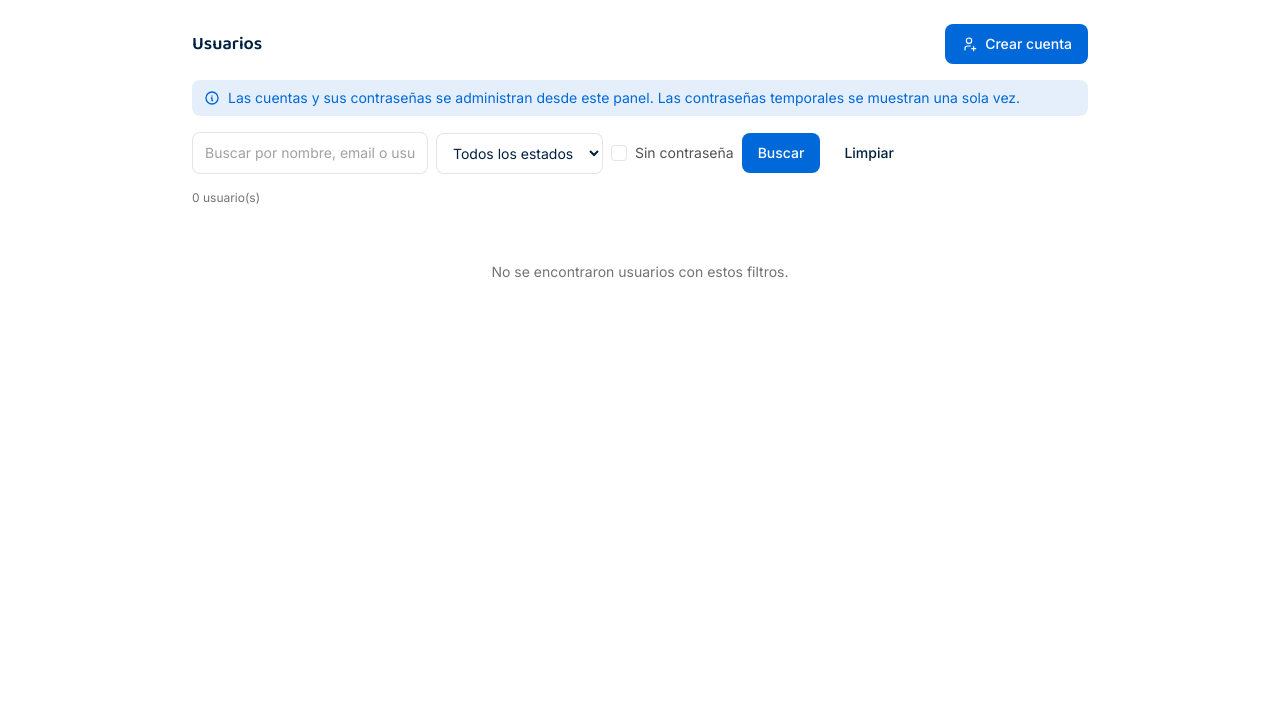
Test: AdminUsersPanel › con cuentas locales › creates an account and shows the temporary password once
The width and height of the screenshot is (1280, 720).
Click the button "Crear cuenta" at (1017, 44), box [945, 24, 1088, 64]
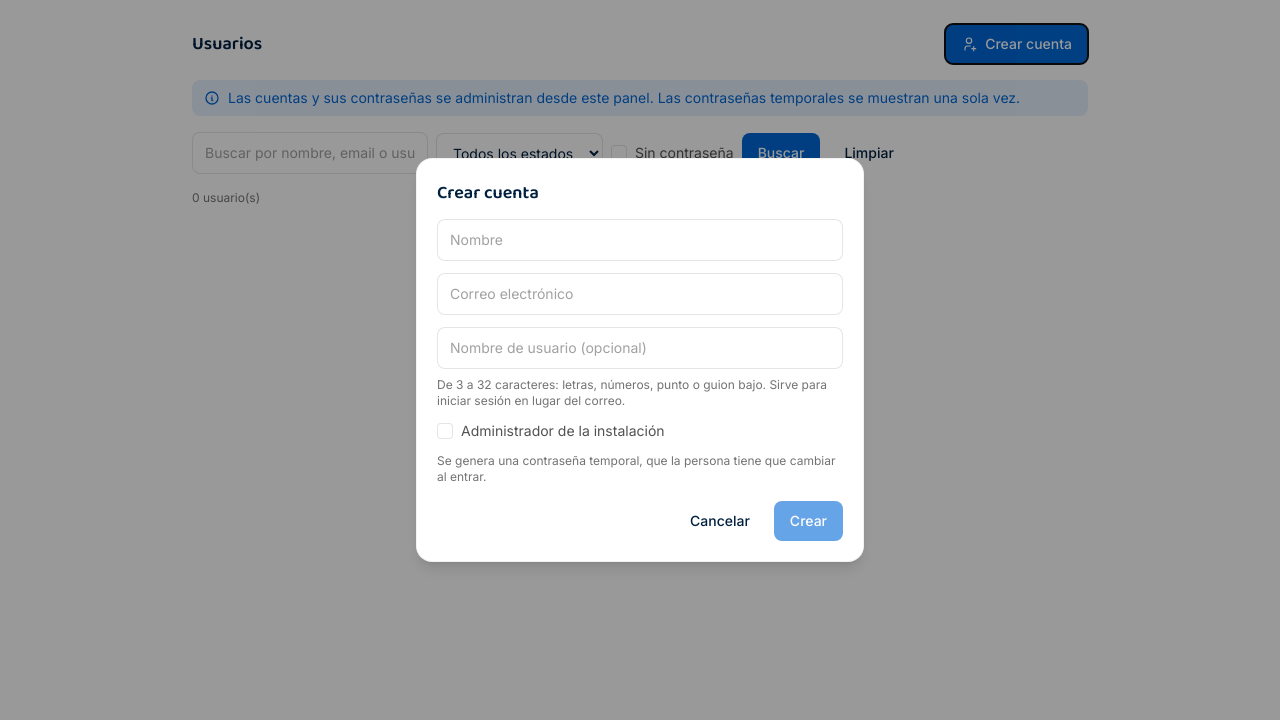
Type "Nueva Persona" into the field labelled "Nombre" at (640, 240), box [437, 219, 843, 261]
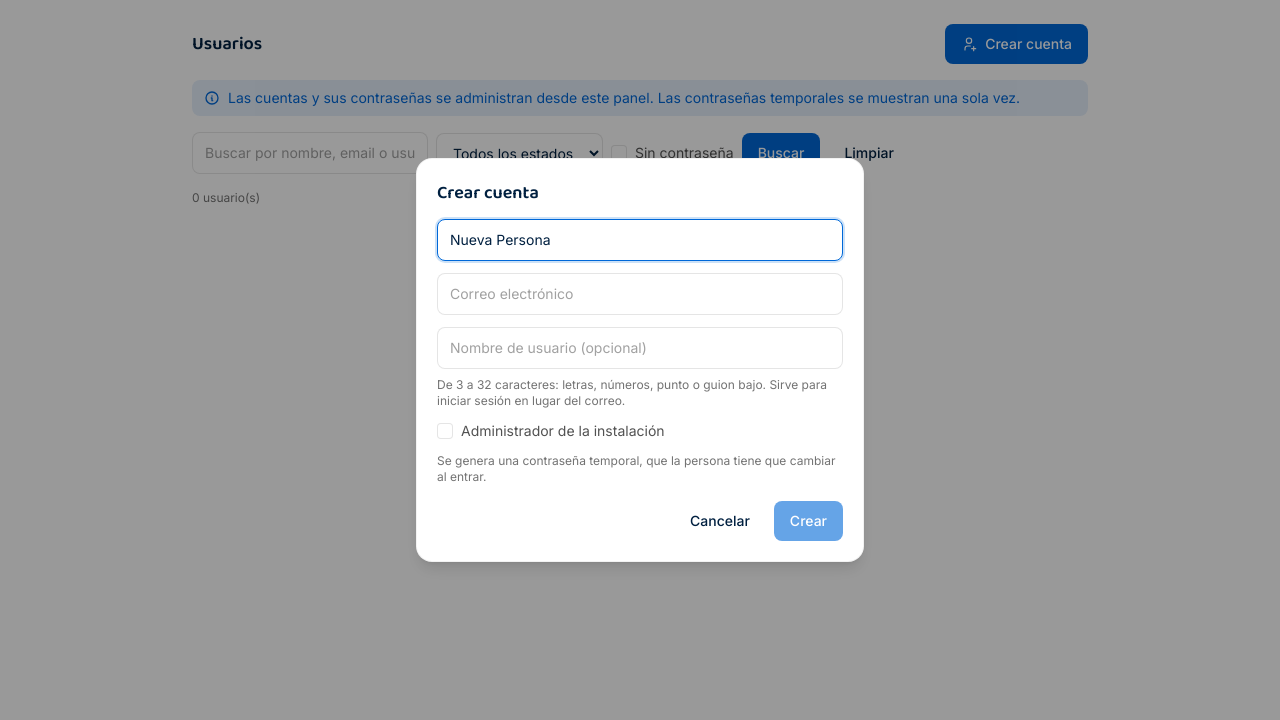
Type "Nueva@Example.com" into the field labelled "Correo electrónico" at (640, 294), box [437, 273, 843, 315]
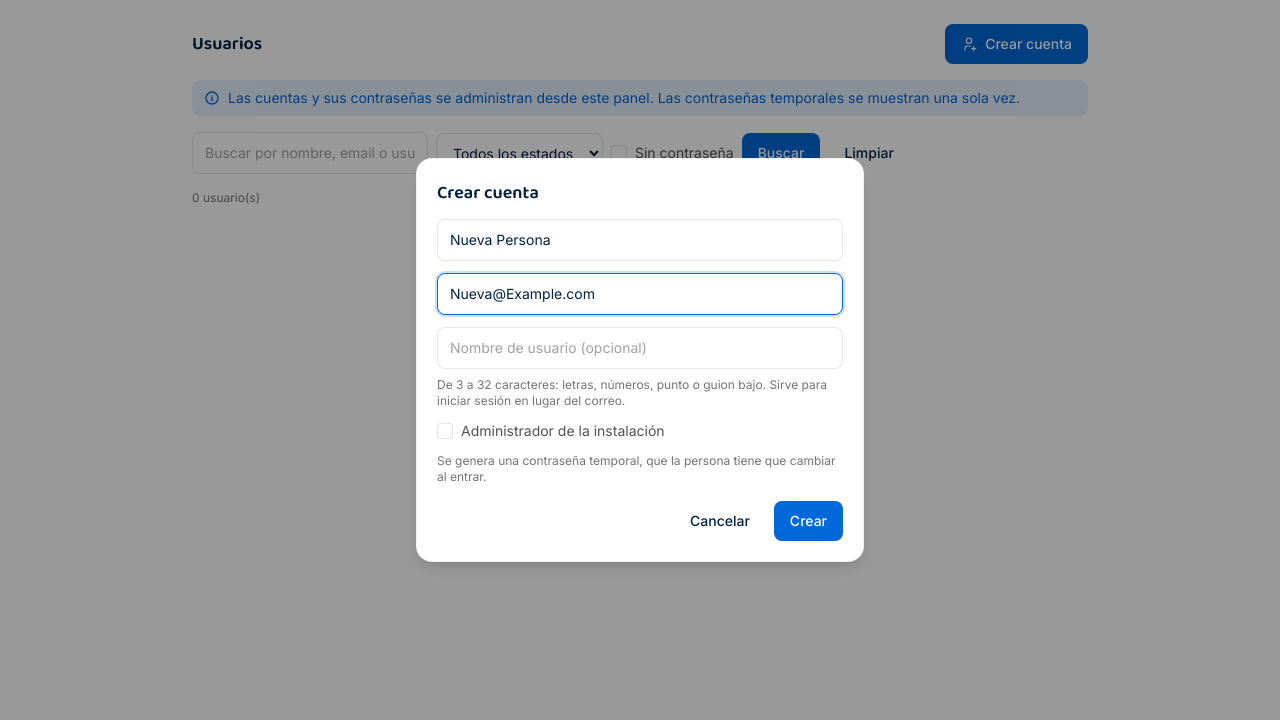
Click the button "Crear" at (808, 521), box [774, 501, 843, 541]
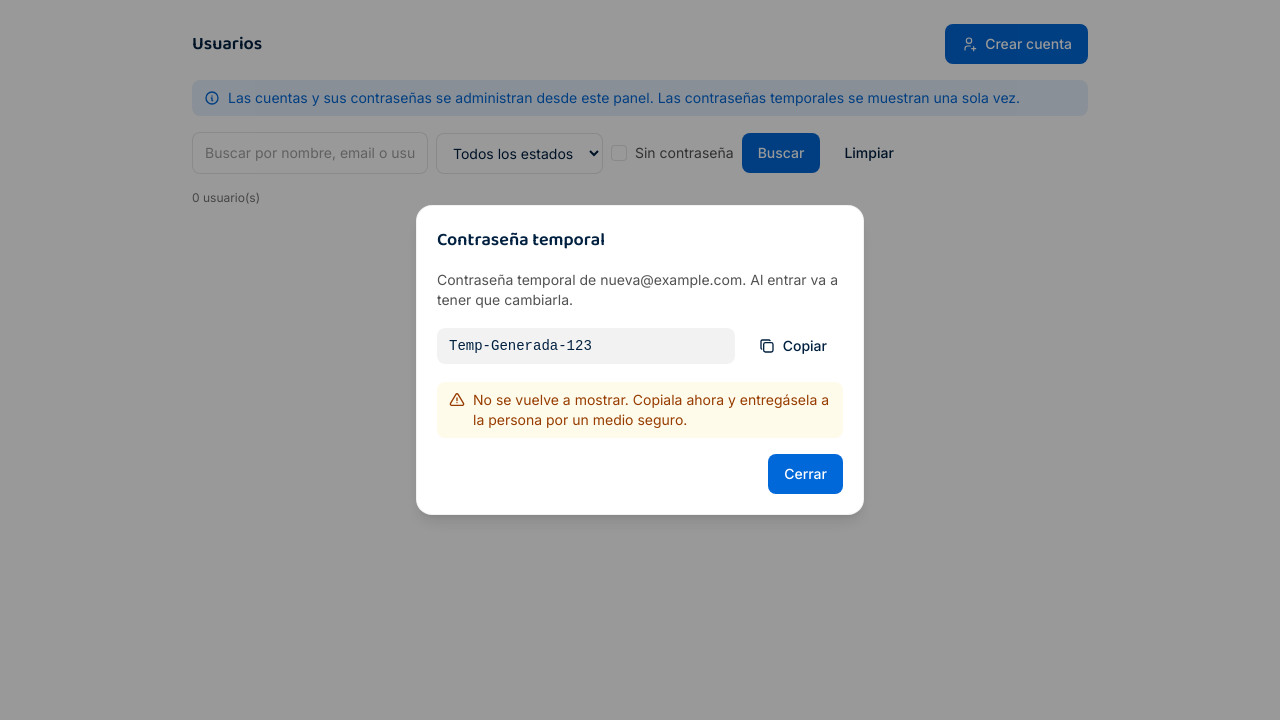
Result: the text with test id "temporary-password" reads "Temp-Generada-123" at [449, 338, 592, 354]
Click the button "Cerrar" at (806, 474), box [768, 454, 843, 494]
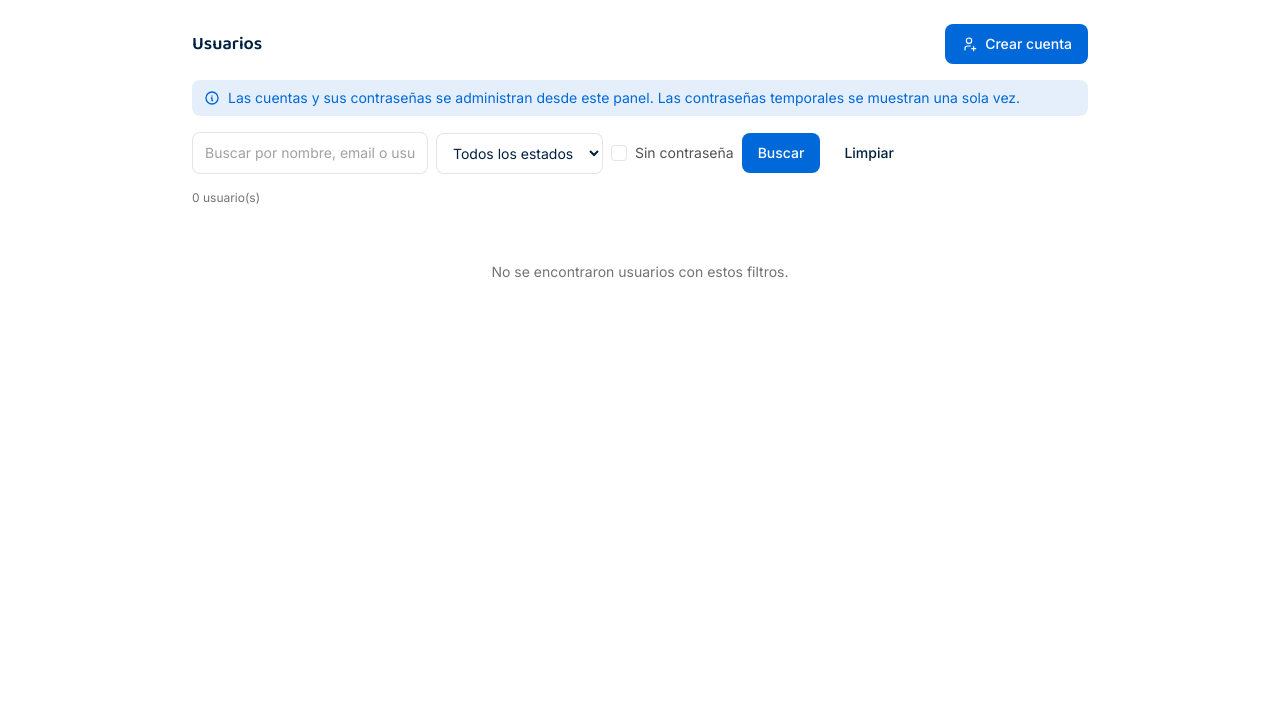
Result: the text with test id "temporary-password" is gone
